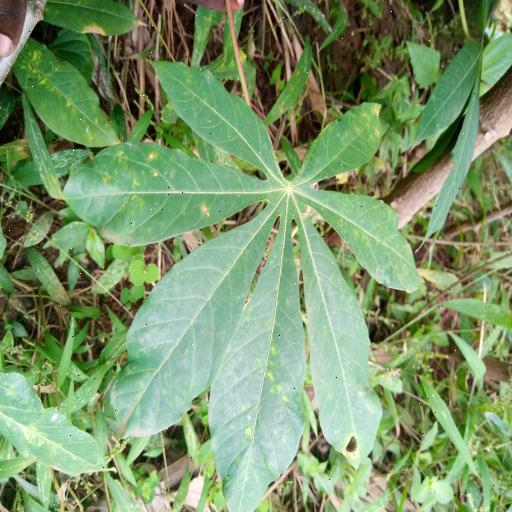Cassava_Mosaic: (61, 50, 430, 512)
